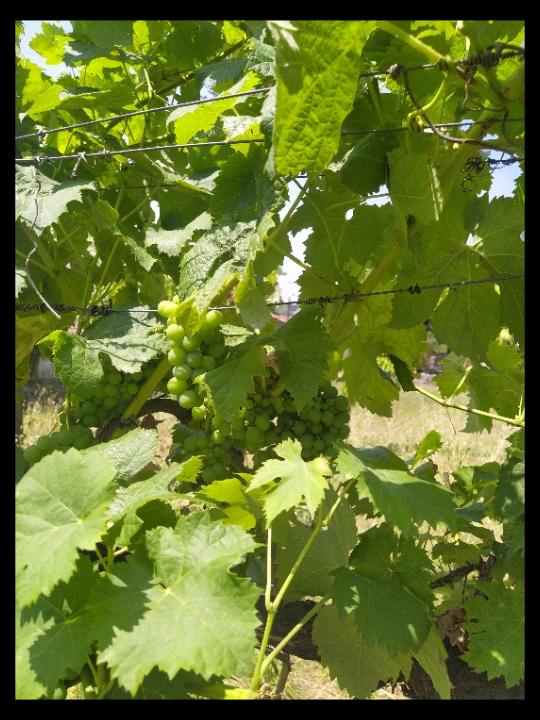grape: (154, 290, 228, 422), (272, 376, 351, 463)
